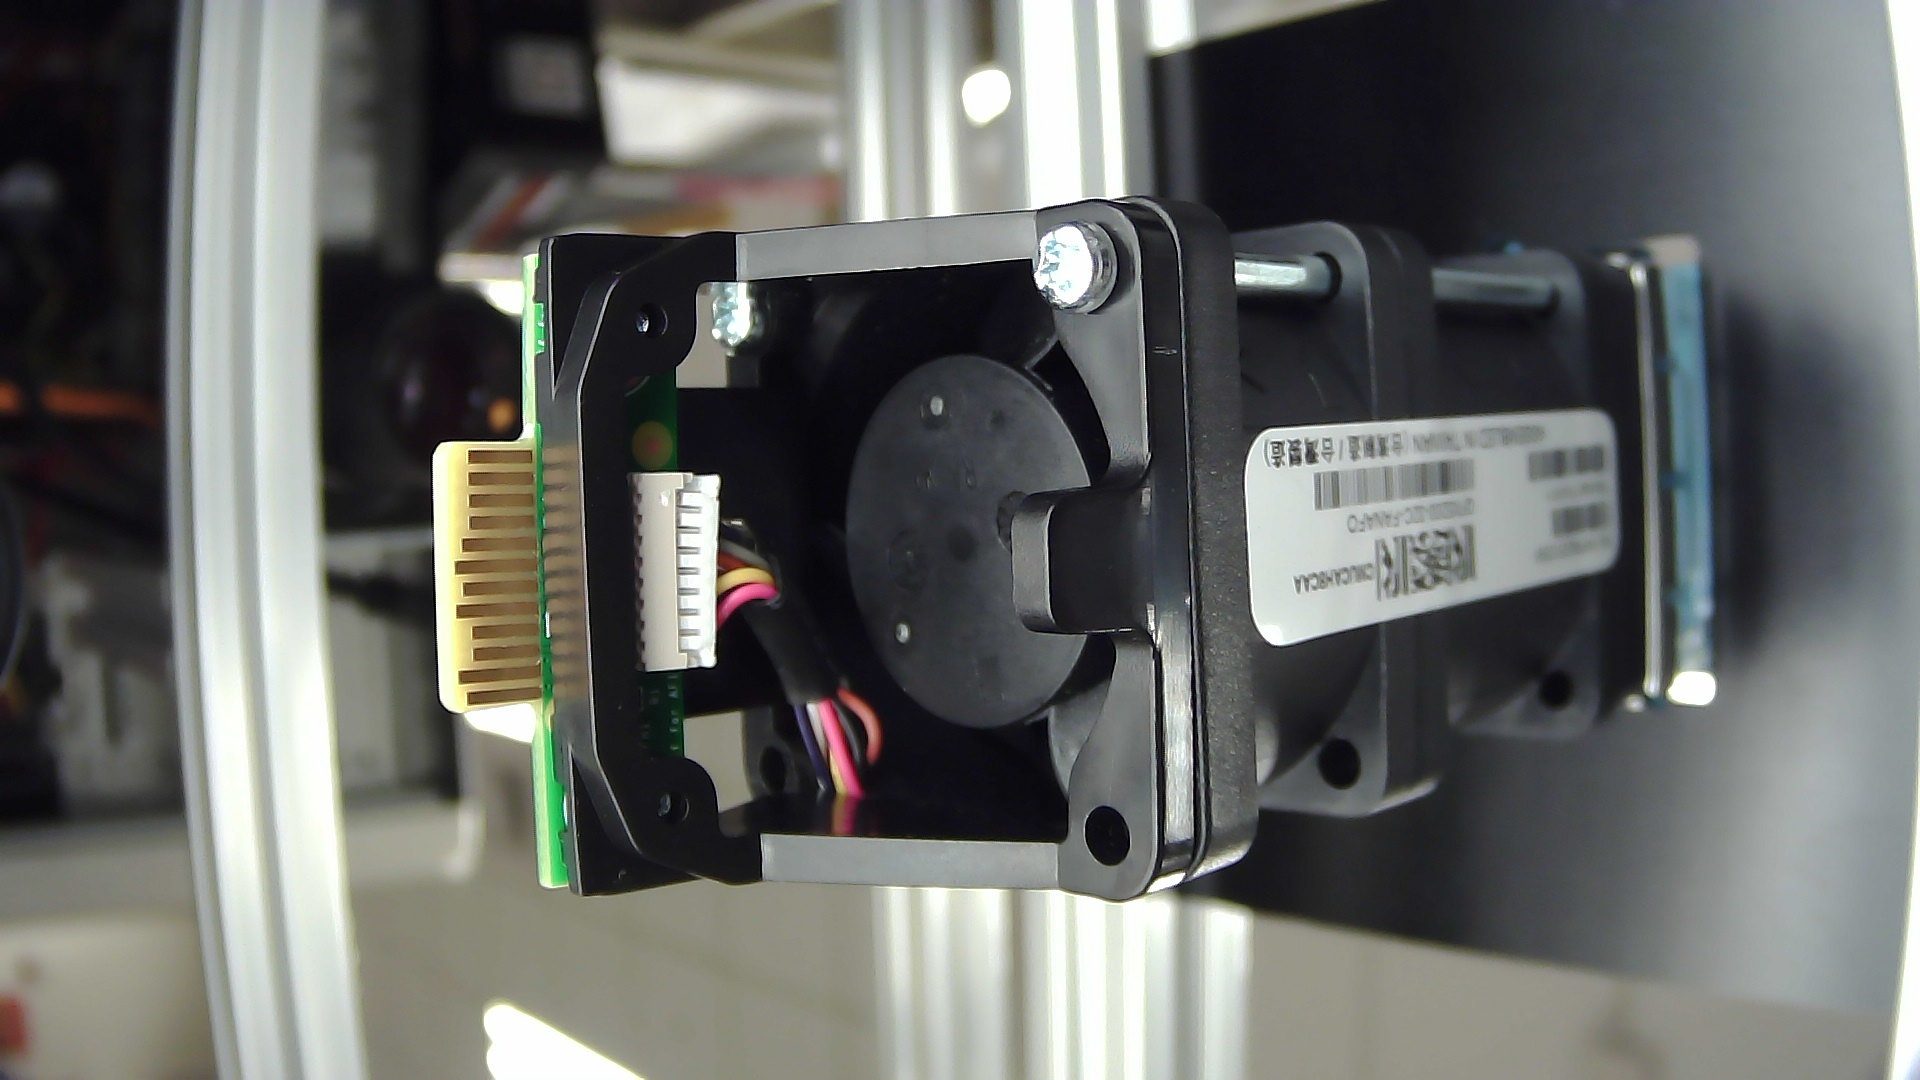8_2: (663, 467, 692, 667)
